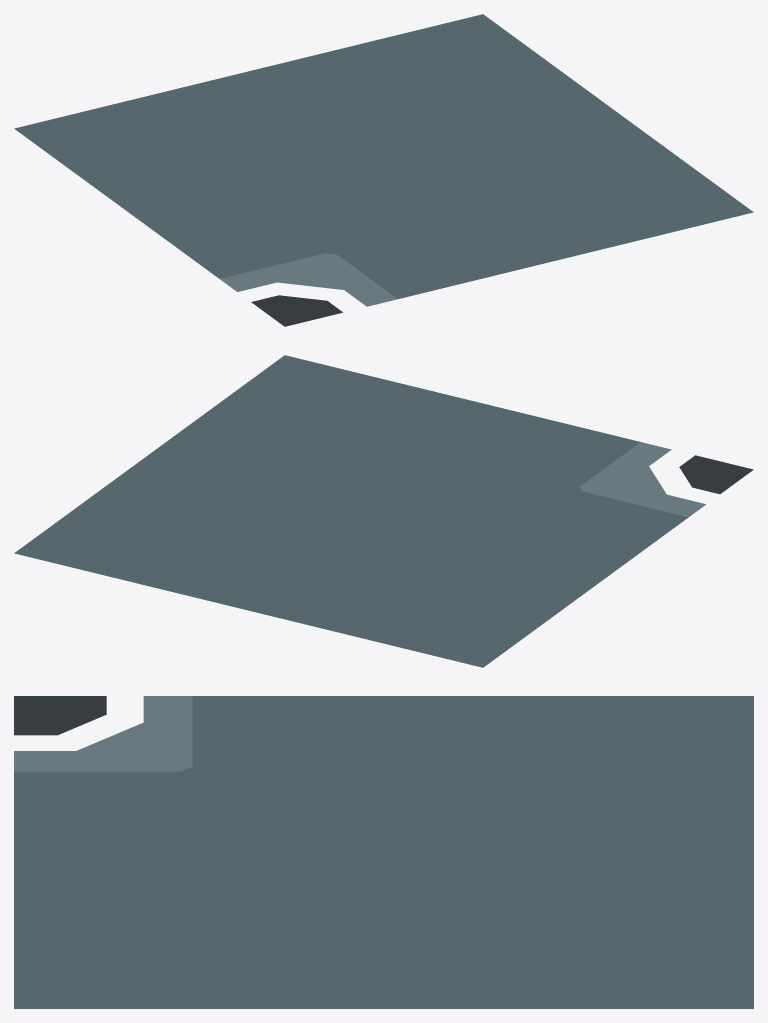
The model's file is Ceiling_type_C_052.glb.
3 renders of one model, top to bottom at view 1: azimuth 30°, elevation 25°; view 2: azimuth 150°, elevation 25°; view 3: azimuth 270°, elevation 25°, orthographic. The views are drawn at different scales.
Visible parts, largest first — view 1: Ceiling_type_C_052; view 2: Ceiling_type_C_052; view 3: Ceiling_type_C_052.
Part boxes in pixels (box(x1,y1,x2,y2)): Ceiling_type_C_052: box(14, 14, 753, 326); Ceiling_type_C_052: box(14, 355, 753, 667); Ceiling_type_C_052: box(14, 696, 753, 1008).
Bounding box in the file's own units: 4 × 0.035 × 4.
Materials: 2 (2 with a texture image).
